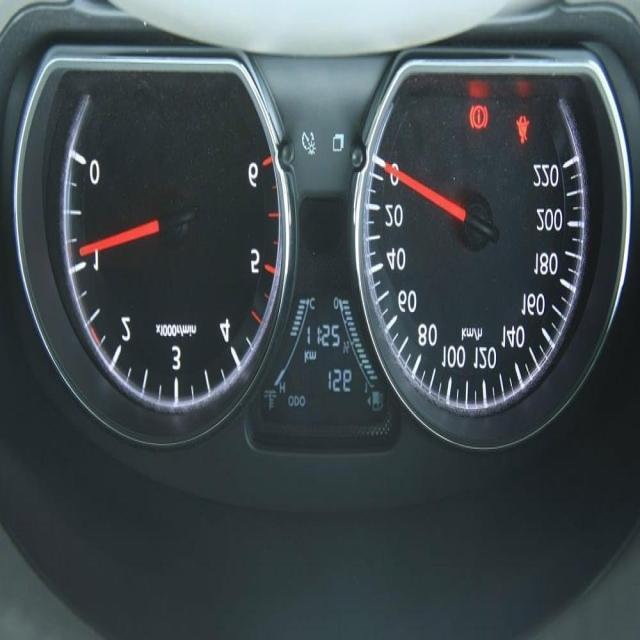Seat Belt: (516, 116, 528, 145)
